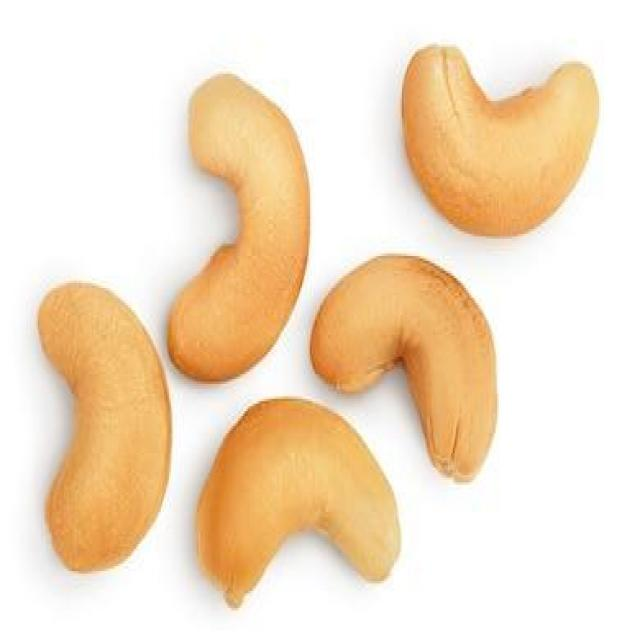Cashew: (166, 27, 330, 370), (388, 32, 632, 228), (32, 243, 169, 567), (196, 403, 416, 596), (313, 250, 512, 396)
